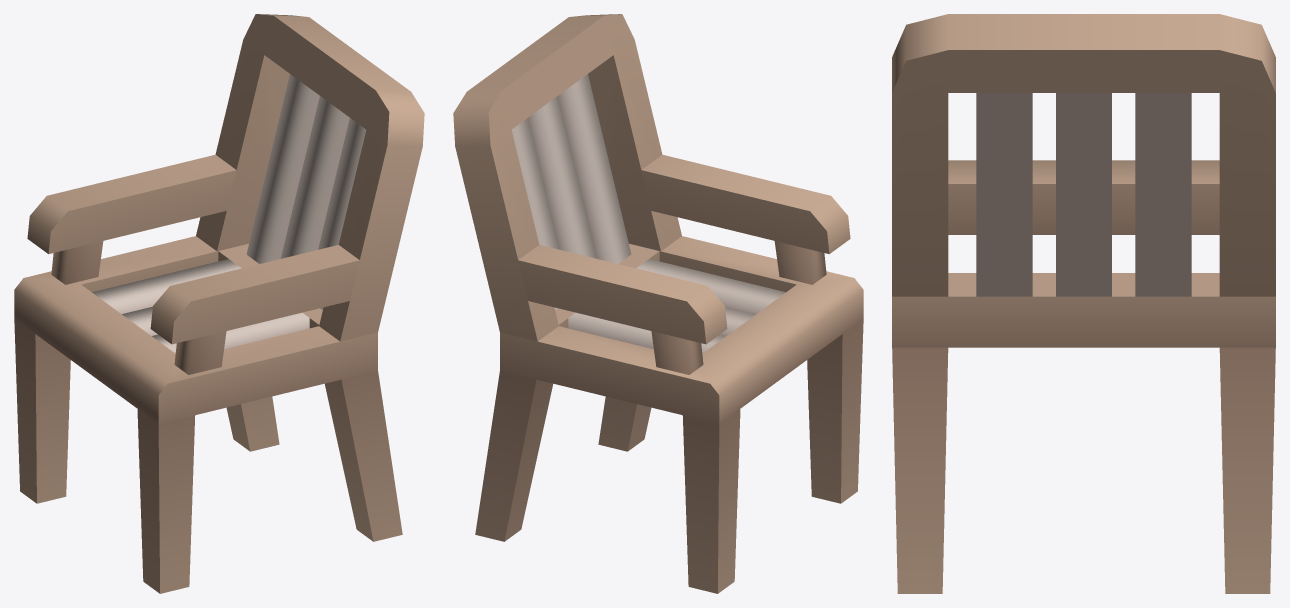
Rendered from wooden-chair-garden.glb.
3 views of the same model, side by side, from view 1: azimuth 30°, elevation 25°; view 2: azimuth 150°, elevation 25°; view 3: azimuth 270°, elevation 25° (orthographic). The views are drawn at different scales.
Visible parts, largest first — view 1: wooden-chair-garden; view 2: wooden-chair-garden; view 3: wooden-chair-garden.
Part boxes in pixels (x1,y1,x2,y2): wooden-chair-garden: (14,14,424,593); wooden-chair-garden: (453,14,863,593); wooden-chair-garden: (892,14,1275,593).
Size of the model in its own units: 0.449 by 0.6777 by 0.41.
